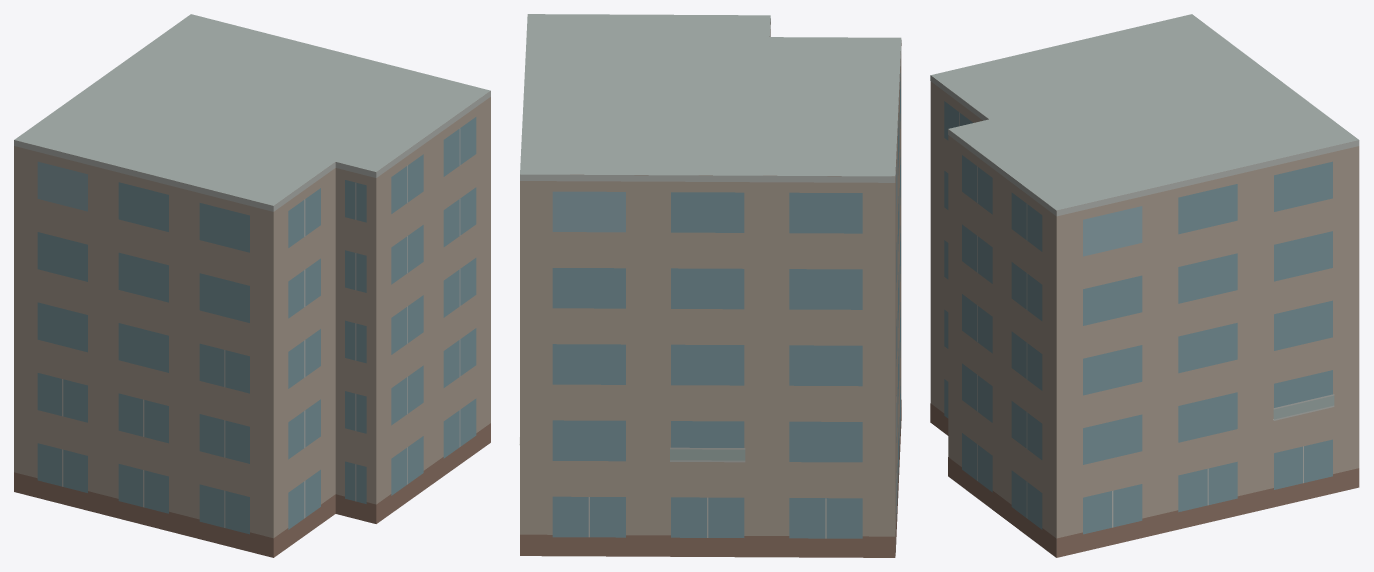
The model's file is survey-upis-32696190.glb.
3 views of the same model, side by side, from view 1: azimuth 30°, elevation 25°; view 2: azimuth 150°, elevation 25°; view 3: azimuth 270°, elevation 25° (orthographic). The views are drawn at different scales.
Visible parts, largest first — view 1: survey-upis-32696190.tmp; view 2: survey-upis-32696190.tmp; view 3: survey-upis-32696190.tmp.
Boxes of the visible parts, x1,y1,x2,y2 form: survey-upis-32696190.tmp: (14,14,490,557); survey-upis-32696190.tmp: (519,14,901,557); survey-upis-32696190.tmp: (930,14,1359,557).
Bounding box in the file's own units: 17.36 × 14.3 × 16.01.
